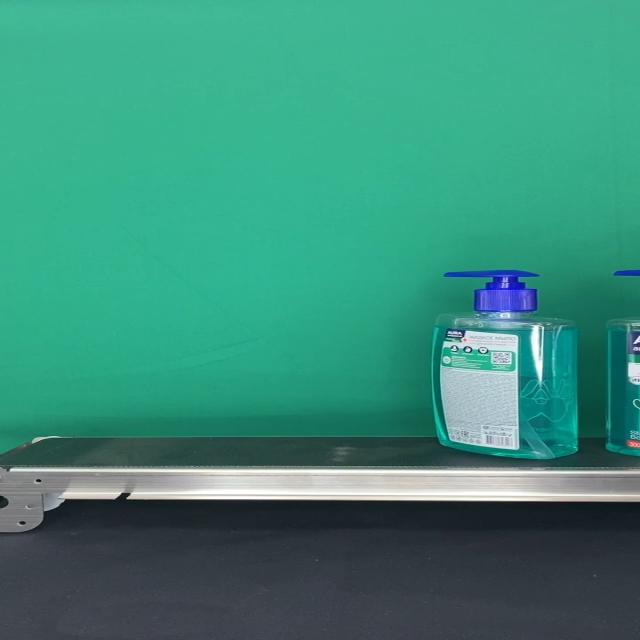Bottle: (431, 270, 578, 459)
Cap: (443, 270, 538, 312)
